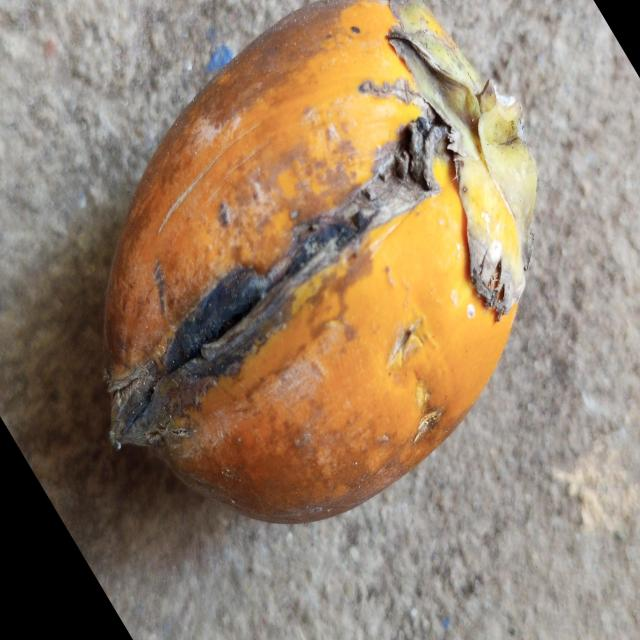damaged: (101, 0, 539, 528)
